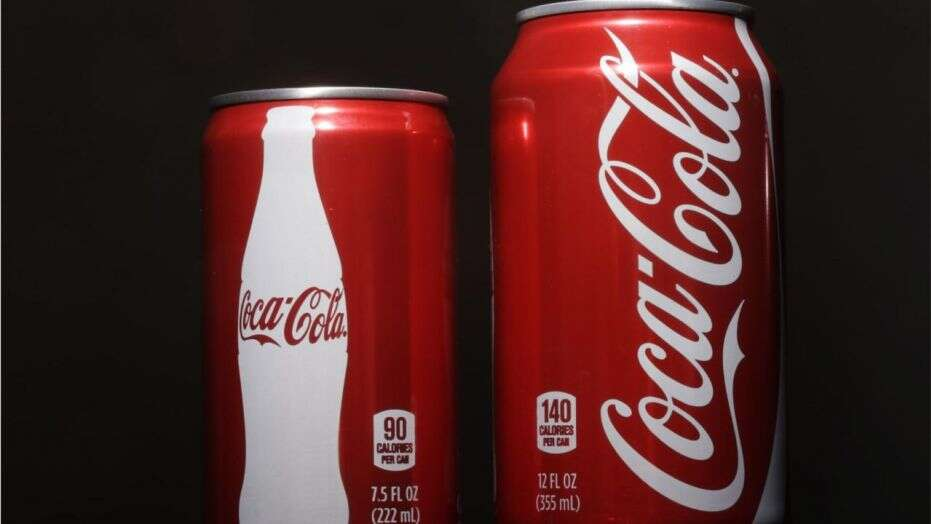Coca-Cola: (497, 19, 790, 521), (184, 82, 465, 521)
